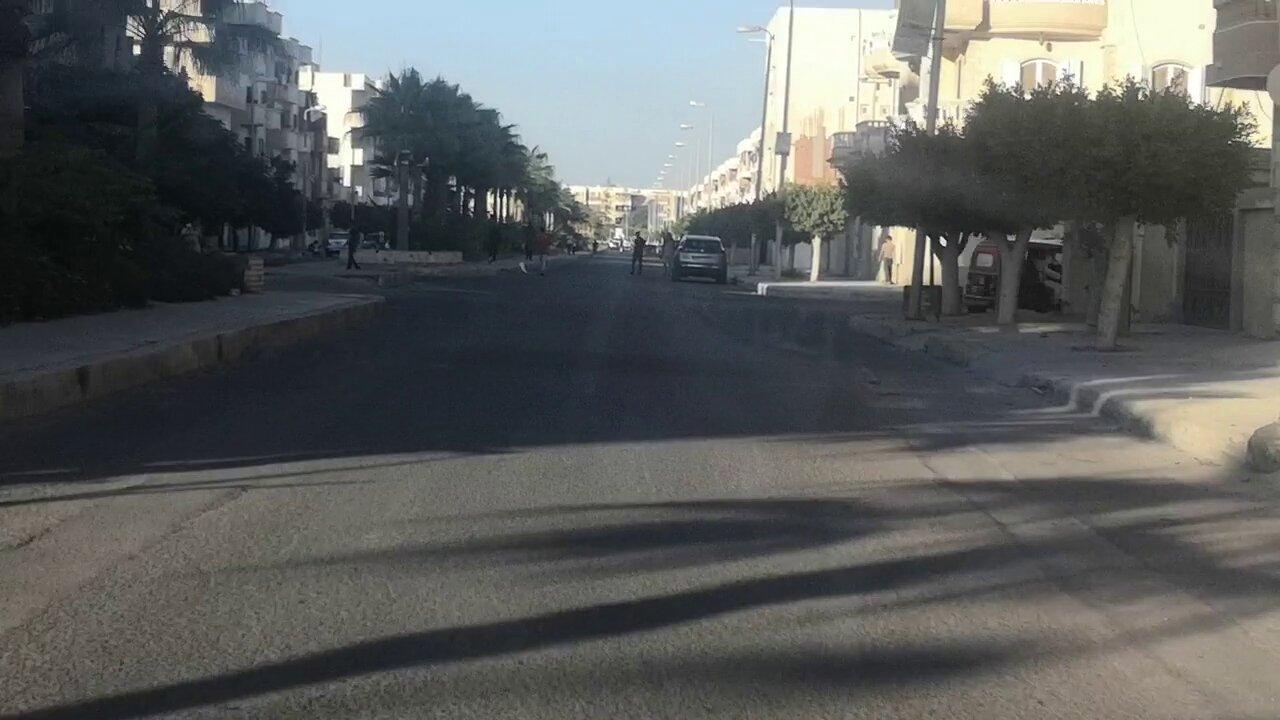Bump: (293, 332, 880, 387)
